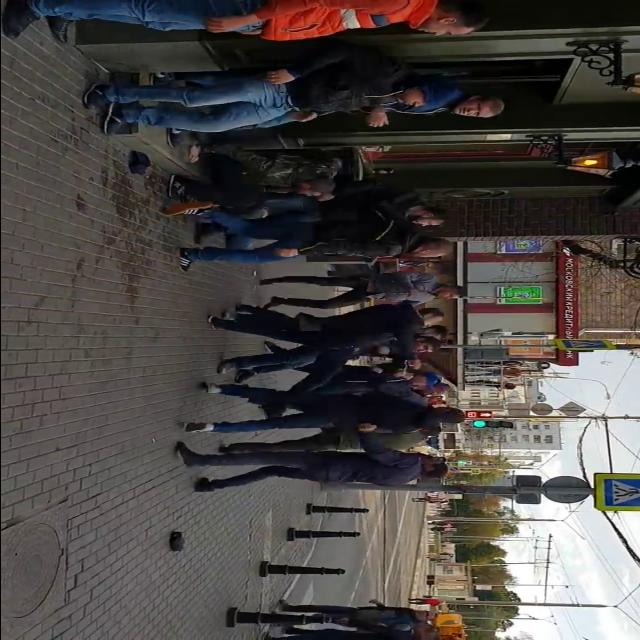NonViolence: (84, 56, 462, 134), (162, 196, 462, 274), (0, 0, 494, 45)
Violence: (211, 302, 445, 438)
